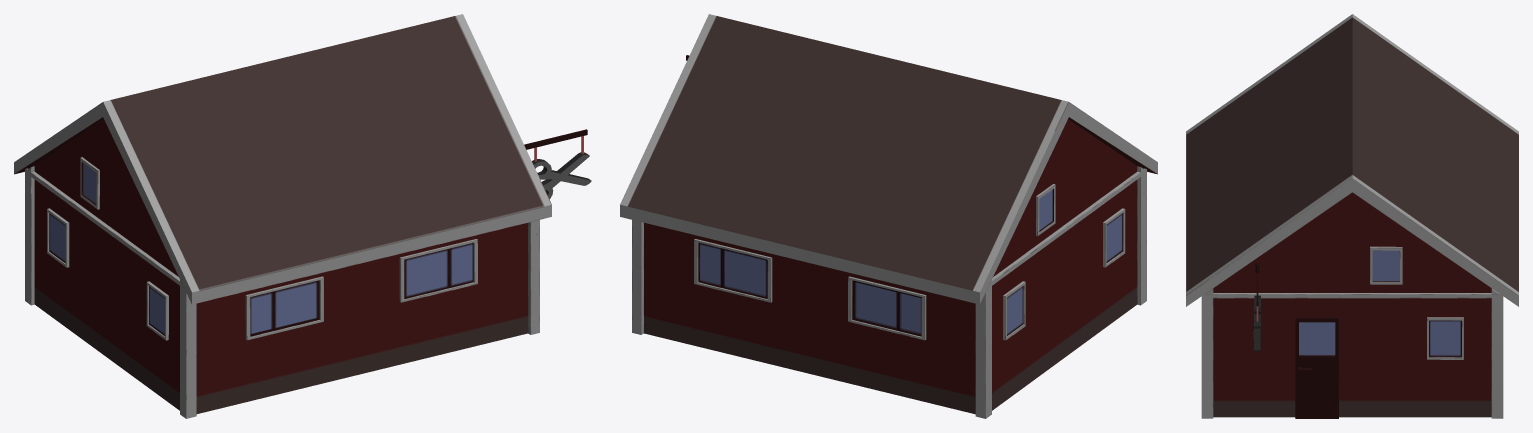
File: Barber.fbx
3 views of the same model, side by side, from view 1: azimuth 30°, elevation 25°; view 2: azimuth 150°, elevation 25°; view 3: azimuth 270°, elevation 25° (orthographic). The views are drawn at different scales.
Visible parts, largest first — view 1: Barber, Scissors; view 2: Barber; view 3: Barber, Scissors.
Boxes of the visible parts, x1=… form: Barber: x1=14, y1=14, x2=551, y2=418; Scissors: x1=524, y1=129, x2=591, y2=199; Barber: x1=620, y1=14, x2=1157, y2=418; Barber: x1=1186, y1=14, x2=1518, y2=418; Scissors: x1=1253, y1=263, x2=1260, y2=351.
Bounding box in the file's own units: 482 × 273 × 341.
